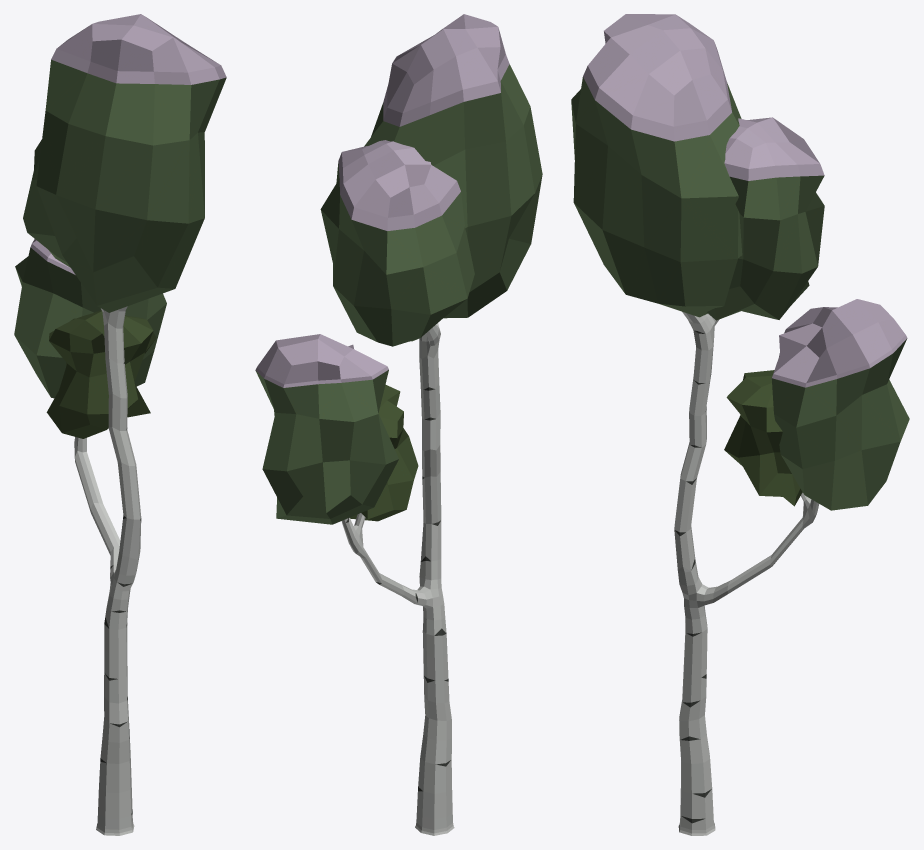
Rendered from Birch_Tree_with_Snow.glb.
3 views of the same model, side by side, from view 1: azimuth 30°, elevation 25°; view 2: azimuth 150°, elevation 25°; view 3: azimuth 270°, elevation 25° (orthographic). The views are drawn at different scales.
Parts seen in each view (by area): view 1: BirchTree_Snow_5; view 2: BirchTree_Snow_5; view 3: BirchTree_Snow_5.
Boxes of the visible parts, <box> form: BirchTree_Snow_5: <box>14,14,226,835</box>; BirchTree_Snow_5: <box>255,14,542,835</box>; BirchTree_Snow_5: <box>571,14,909,835</box>.
Size of the model in its own units: 1.19 by 5.06 by 1.93.
1 material, 1 textured.
